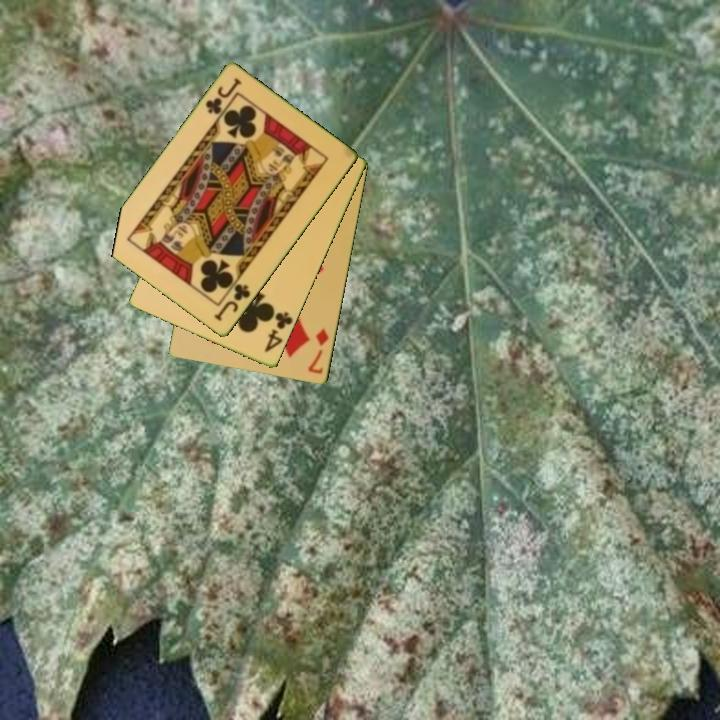4c: (261, 308, 296, 356)
7d: (304, 325, 332, 377)
Jc: (211, 281, 254, 324), (202, 75, 245, 118)
